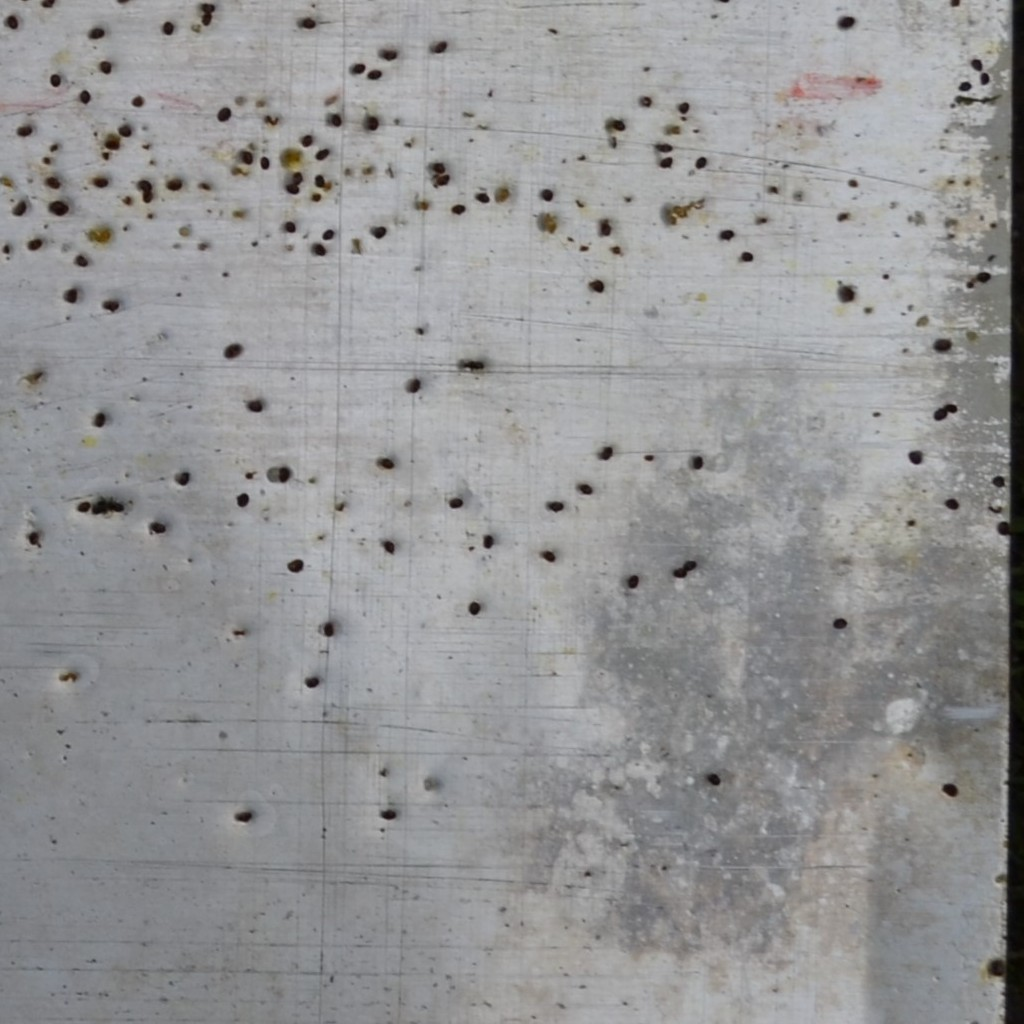varroa: (220, 337, 247, 362), (45, 196, 71, 220), (835, 280, 858, 306), (931, 333, 953, 356), (986, 952, 1006, 976), (586, 275, 607, 297), (276, 459, 293, 485), (101, 292, 122, 313), (940, 778, 959, 801), (231, 808, 254, 827), (596, 441, 616, 462), (379, 804, 399, 825), (26, 233, 46, 254), (287, 555, 306, 577), (837, 11, 855, 34), (12, 195, 29, 219), (657, 152, 677, 172), (705, 769, 725, 789), (216, 105, 235, 126), (62, 285, 84, 303), (48, 68, 65, 91), (942, 493, 961, 513), (688, 453, 706, 474), (299, 127, 314, 152), (907, 446, 924, 468), (718, 226, 738, 244), (447, 494, 465, 514), (44, 175, 65, 192), (14, 123, 36, 139), (298, 14, 317, 32), (102, 135, 121, 153), (463, 355, 483, 372), (310, 240, 330, 257), (546, 498, 567, 514), (236, 488, 251, 510), (625, 570, 643, 588), (321, 224, 339, 242), (364, 114, 381, 133), (382, 536, 396, 558), (372, 222, 389, 240), (475, 187, 491, 206), (380, 454, 396, 473), (246, 397, 265, 413), (995, 517, 1010, 537), (98, 57, 113, 77), (612, 117, 629, 134), (107, 497, 124, 514), (175, 469, 191, 487), (150, 519, 166, 537), (283, 216, 298, 235), (129, 92, 148, 107), (91, 174, 110, 189), (694, 154, 708, 174), (599, 216, 613, 236), (683, 555, 697, 575), (84, 25, 107, 37), (380, 45, 396, 62), (404, 376, 422, 391), (321, 620, 335, 639), (93, 410, 107, 429), (135, 176, 155, 189), (303, 674, 319, 690), (740, 248, 755, 265), (671, 566, 688, 581), (91, 499, 108, 514), (428, 157, 445, 172), (314, 146, 331, 161), (977, 67, 991, 85), (540, 548, 558, 562), (72, 252, 90, 266), (284, 184, 303, 197), (943, 399, 958, 415), (932, 406, 948, 421), (831, 616, 847, 631), (639, 95, 654, 111), (4, 13, 20, 28), (164, 178, 184, 190), (118, 122, 134, 137), (540, 186, 554, 203), (433, 38, 447, 55), (468, 600, 481, 618), (27, 529, 40, 547), (331, 109, 342, 130), (957, 79, 972, 94), (677, 100, 692, 115), (76, 499, 91, 514), (367, 66, 382, 81), (139, 190, 154, 205), (578, 482, 594, 496), (434, 173, 450, 187), (78, 89, 92, 105), (977, 269, 992, 283), (310, 190, 325, 204), (201, 11, 215, 26), (482, 531, 493, 550), (991, 473, 1007, 486), (451, 202, 467, 215), (352, 59, 365, 75), (199, 2, 219, 12), (969, 55, 983, 69), (313, 172, 326, 187), (290, 169, 303, 184), (241, 149, 254, 164), (163, 20, 175, 36), (259, 154, 269, 172), (947, 0, 962, 7), (41, 1, 54, 6)
